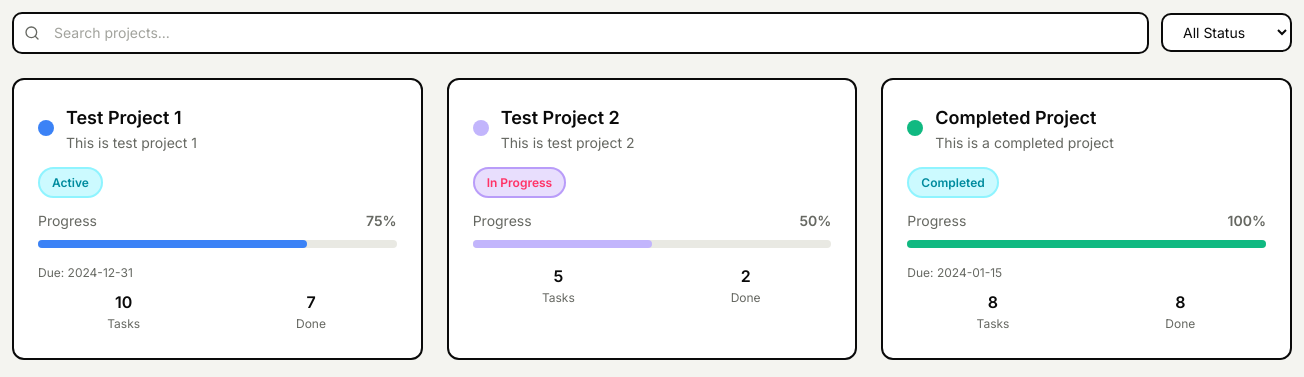
ProjectsList Component › Status Filter › should show no projects found when status filter has no results
Select "On Hold" in the dropdown showing "All Status". click: point(1226, 33)
box: [1161,13,1292,52]
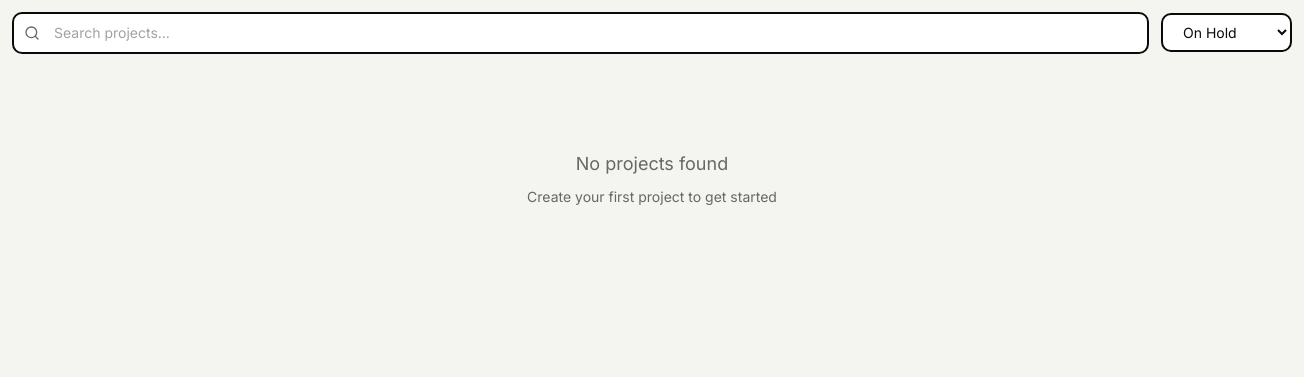
expect the text "No projects found" is shown: met, box [576,153,728,174]
